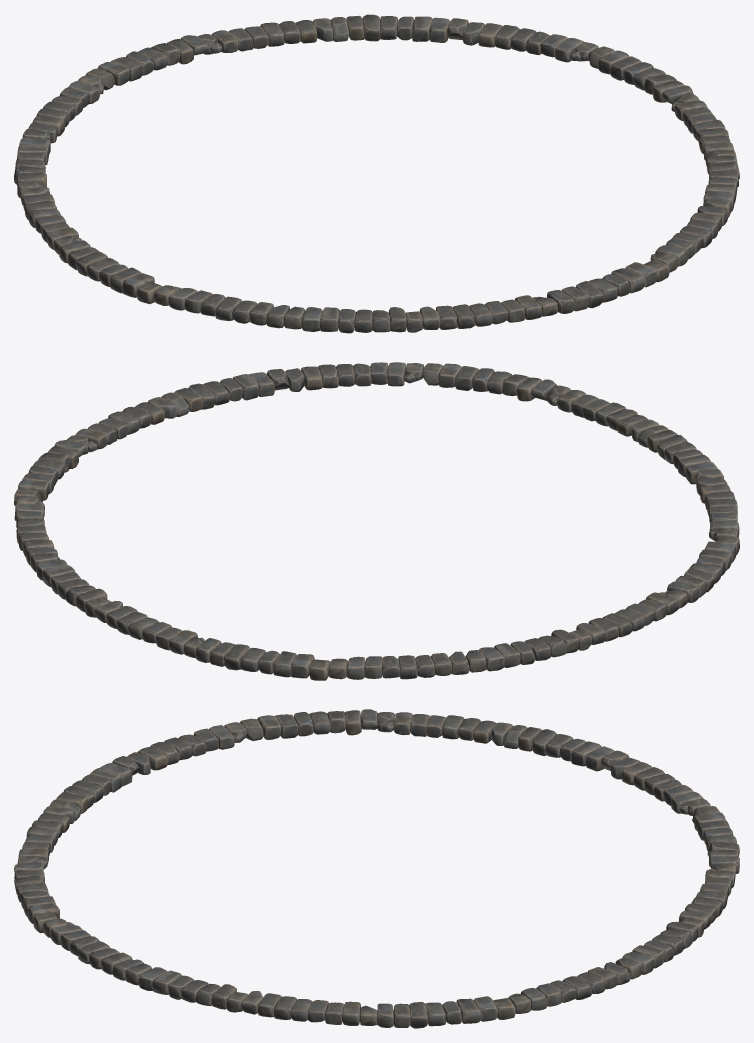
The model's file is Arena_stonering.fbx.
3 views of the same model, one above another, from view 1: azimuth 30°, elevation 25°; view 2: azimuth 150°, elevation 25°; view 3: azimuth 270°, elevation 25° (orthographic).
Visible parts, largest first — view 1: blocks_017; view 2: blocks_017; view 3: blocks_017.
Part boxes in pixels (x1,y1,x2,y2): blocks_017: (14,14,739,333); blocks_017: (14,362,739,680); blocks_017: (14,709,739,1028).
Bounding box in the file's own units: 2775 × 68.89 × 2775.
